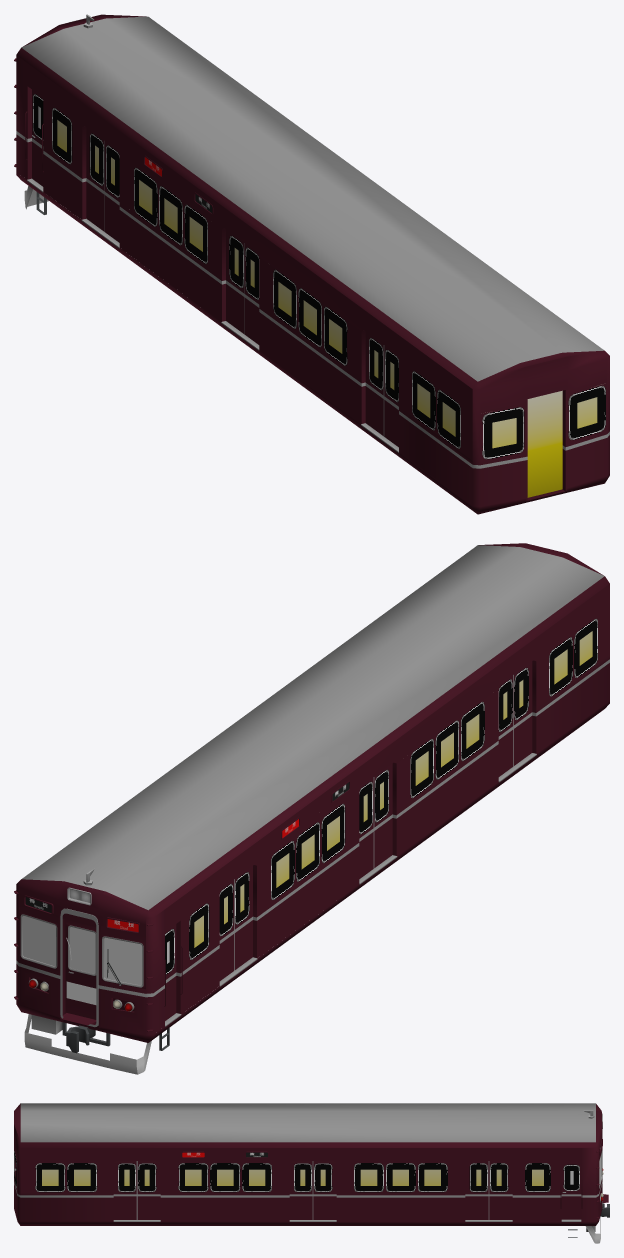
3 renders of one model, top to bottom at view 1: azimuth 30°, elevation 25°; view 2: azimuth 150°, elevation 25°; view 3: azimuth 270°, elevation 25°, orthographic. The views are drawn at different scales.
Visible parts, largest first — view 1: IN; view 2: IN; view 3: IN.
Boxes of the visible parts, x1,y1,x2,y2 form: IN: (14, 14, 609, 514); IN: (14, 543, 609, 1074); IN: (14, 1103, 609, 1243).
Bounding box in the file's own units: 6.68 × 8.31 × 38.95.
Materials: 17 (15 with a texture image).
